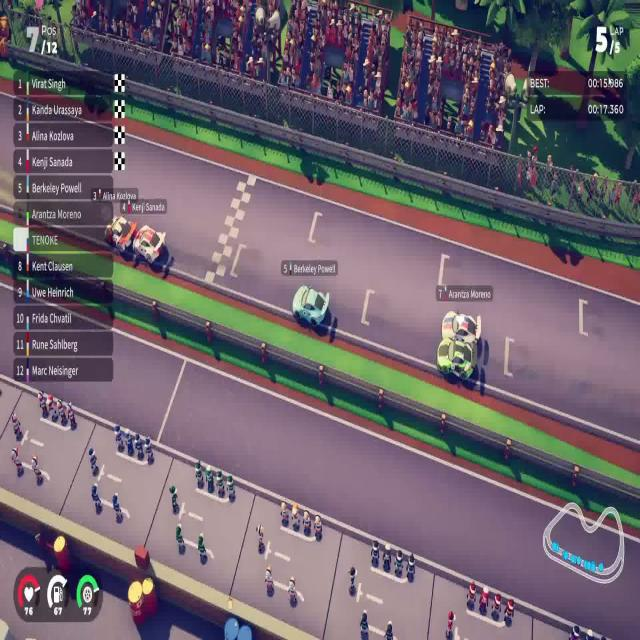car: (434, 334, 482, 382), (440, 302, 483, 344), (291, 283, 330, 329), (132, 223, 166, 267), (104, 213, 137, 255)
